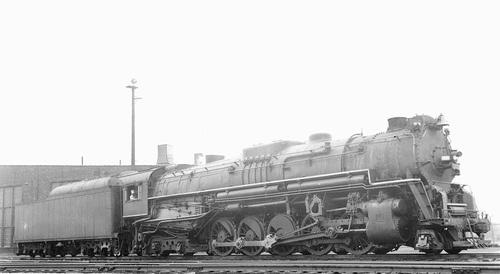train: (15, 111, 491, 256)
